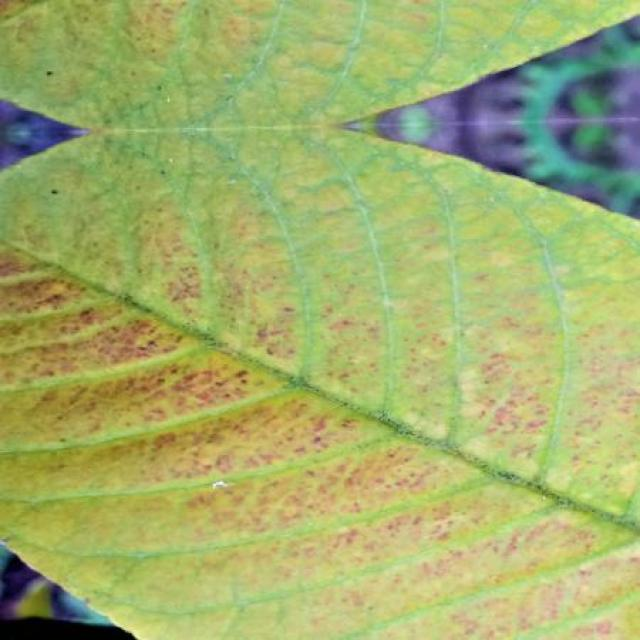Red Rust: (0, 0, 640, 522), (0, 248, 640, 640), (0, 128, 640, 513)
